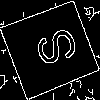S: (25, 24, 81, 73)
